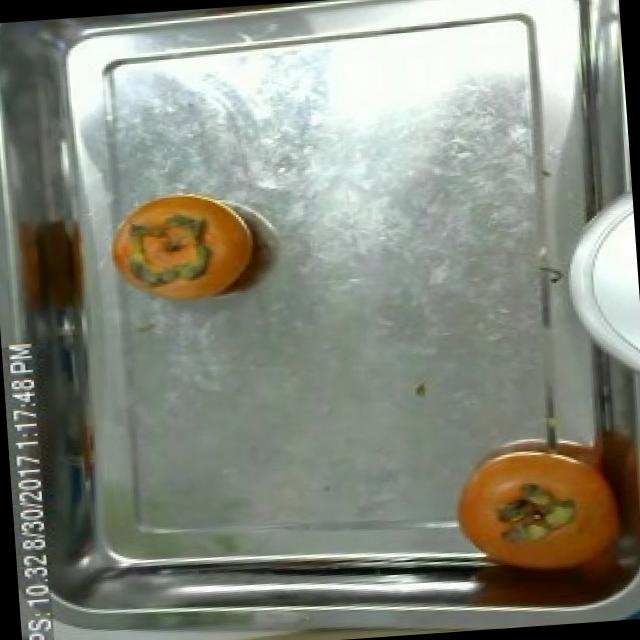Fruit: (95, 181, 249, 311), (0, 192, 114, 326)
